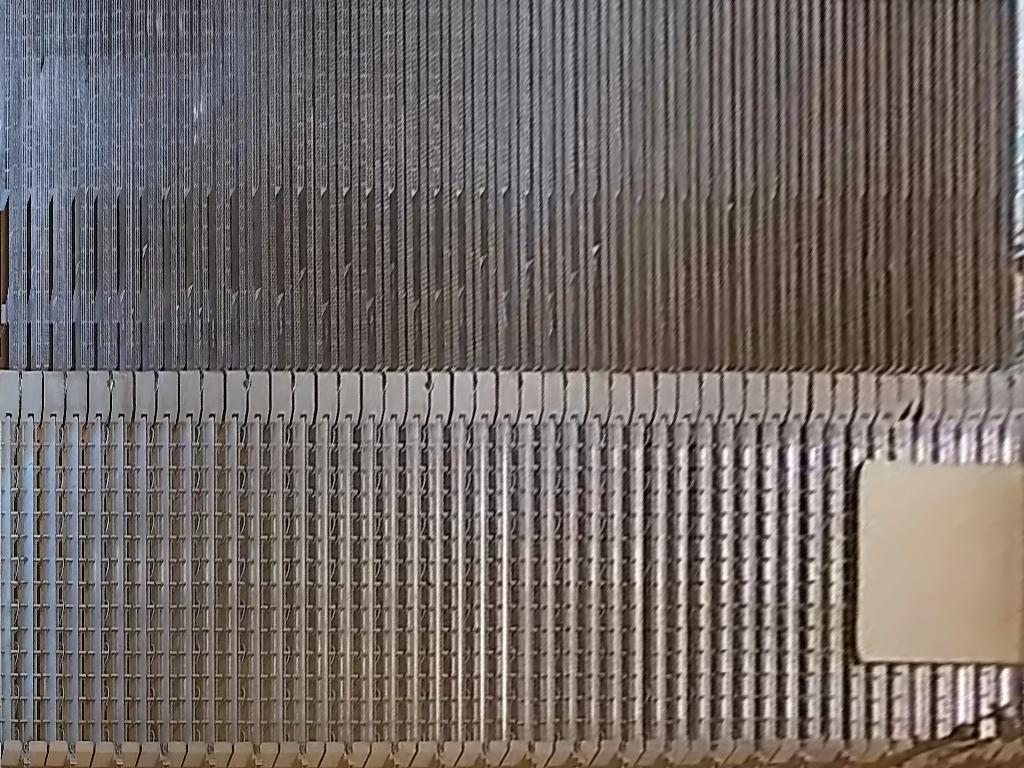steel: (856, 458, 1024, 665)
